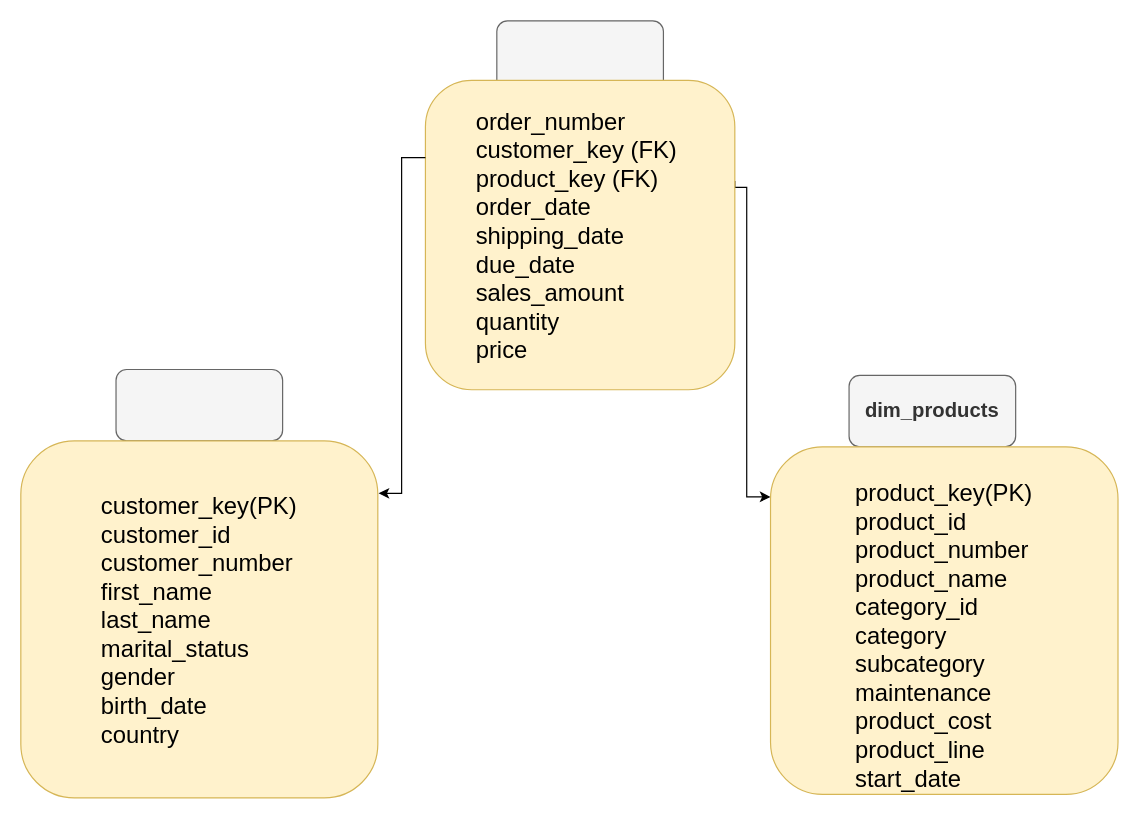
Some shapes in this 1139 by 819 pixel diagram are drawn without their labels. The centre of each missing label's shape, as x and y in pixels:
dim_customers: (x=199, y=404)
Fact Sales: (x=579, y=56)
